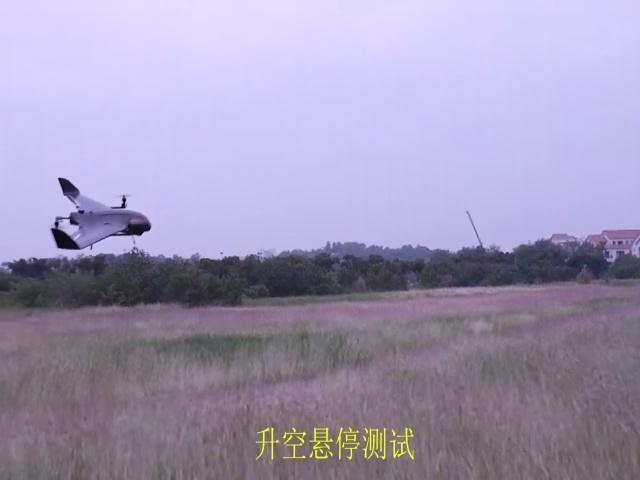Airplane: (51, 177, 151, 251)
